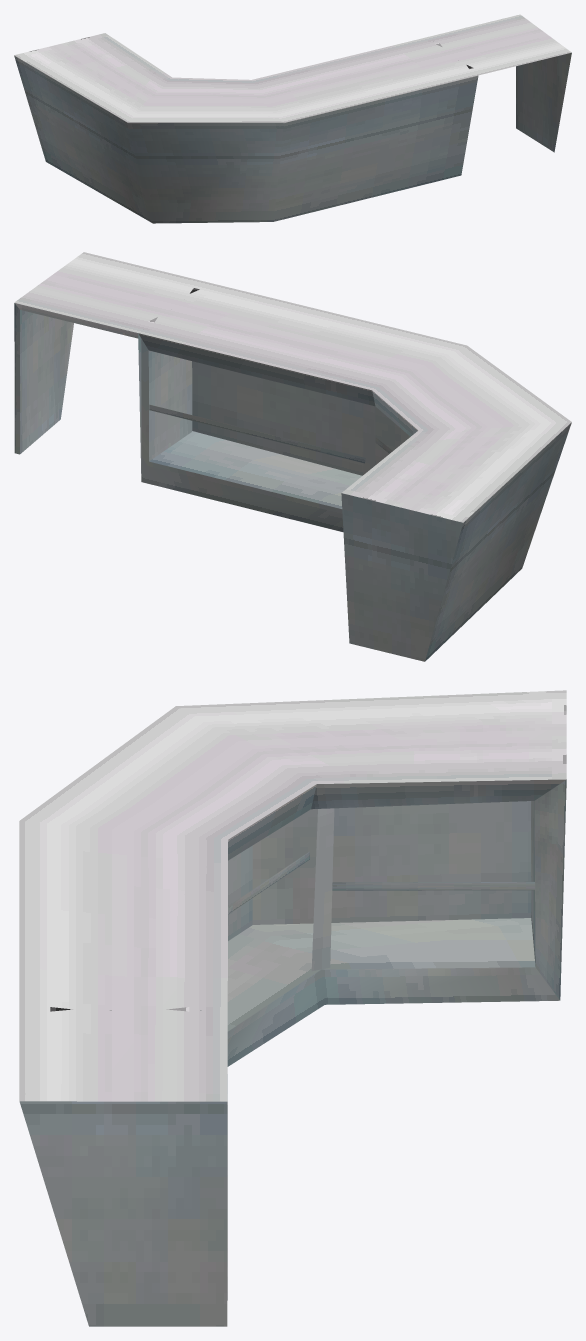
The model's file is frn_bar_piece_curve_s2_l2.fbx.
The picture shows the model from 3 angles, top to bottom: view 1: azimuth 30°, elevation 25°; view 2: azimuth 150°, elevation 25°; view 3: azimuth 270°, elevation 25°; orthographic projection. The views are drawn at different scales.
Parts seen in each view (by area): view 1: mesh_node; view 2: mesh_node; view 3: mesh_node.
Boxes of the visible parts, left/top/right/bottom form: mesh_node: left=14, top=14, right=571, bottom=223; mesh_node: left=14, top=252, right=571, bottom=661; mesh_node: left=19, top=690, right=566, bottom=1326.
Bounding box in the file's own units: 4.5 × 1.16 × 2.53.
Materials: 1 (1 with a texture image).
